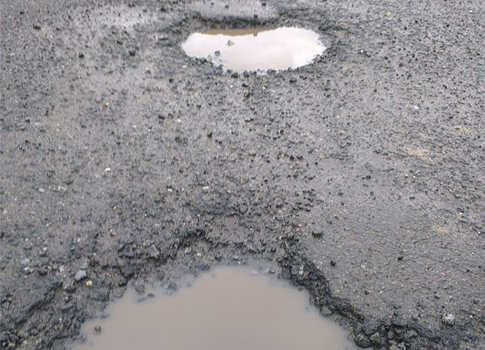pothole: (44, 217, 375, 349), (164, 3, 351, 84)
